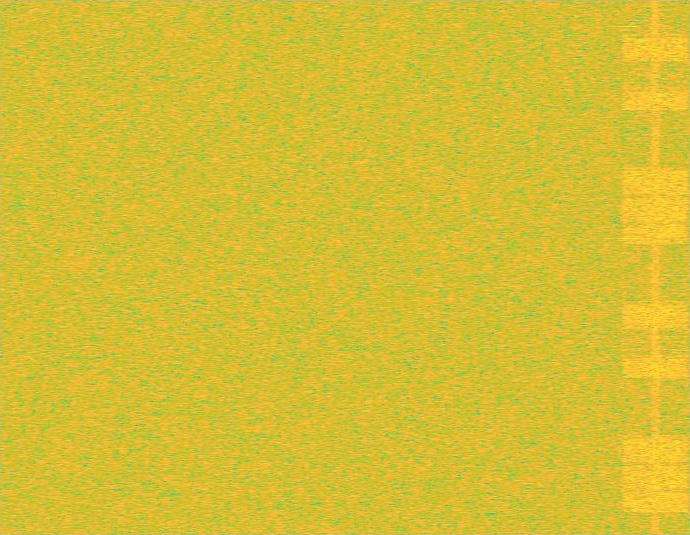DSSS: (651, 0, 660, 534)
LTE: (621, 0, 689, 534)
Radar: (623, 0, 637, 534)
